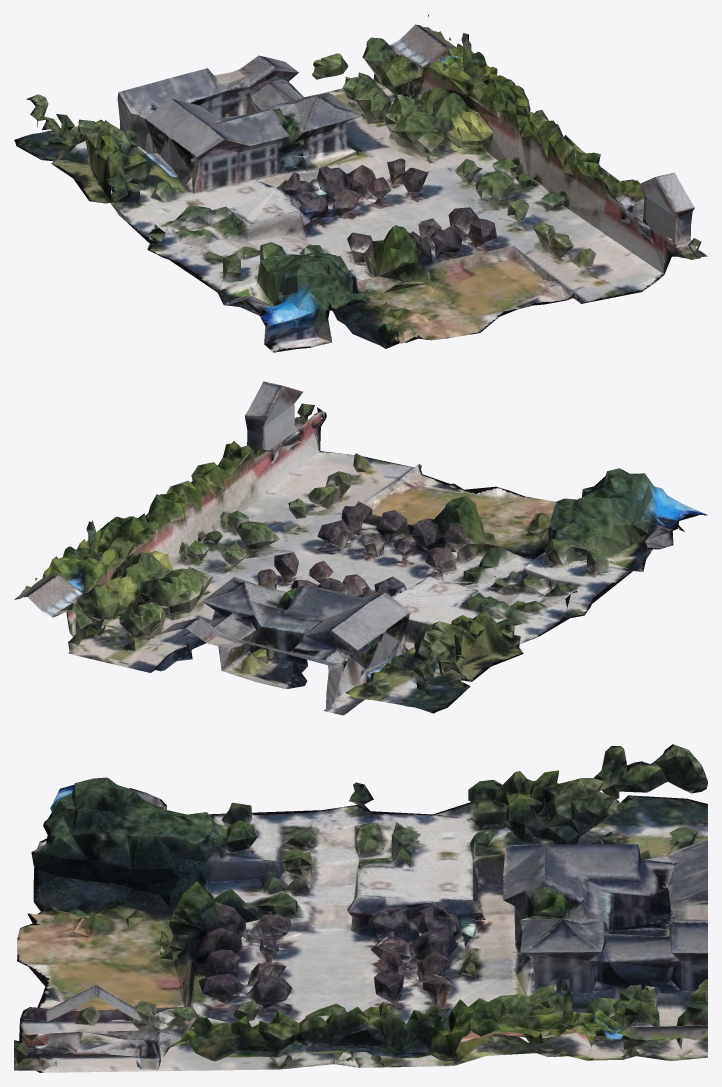
3 renders of one model, top to bottom at view 1: azimuth 30°, elevation 25°; view 2: azimuth 150°, elevation 25°; view 3: azimuth 270°, elevation 25°, orthographic. The views are drawn at different scales.
Size of the model in its own units: 99.03 by 20.8 by 113.
Materials: 1 (1 with a texture image).
